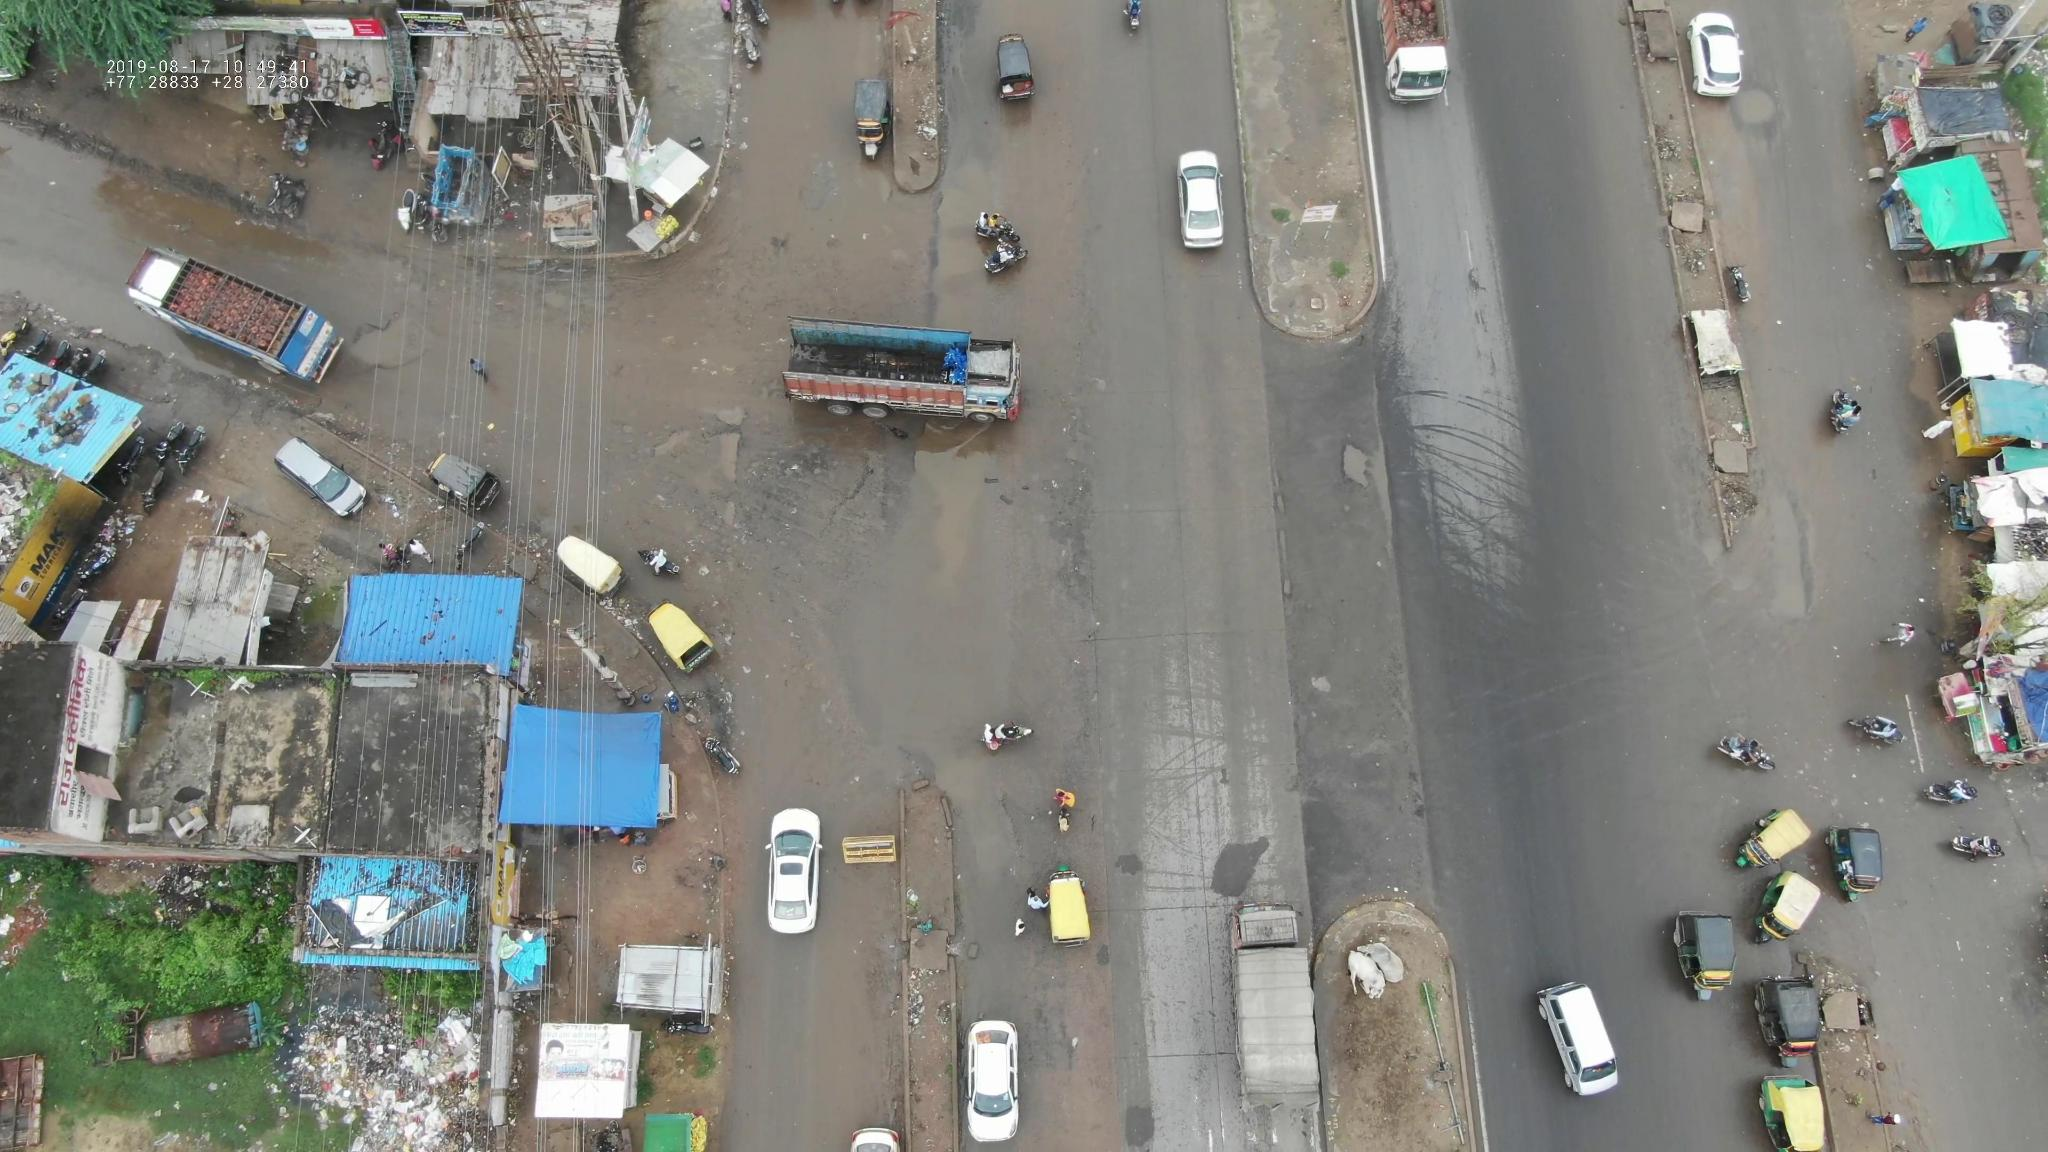Waterlogging: (87, 160, 343, 260)
